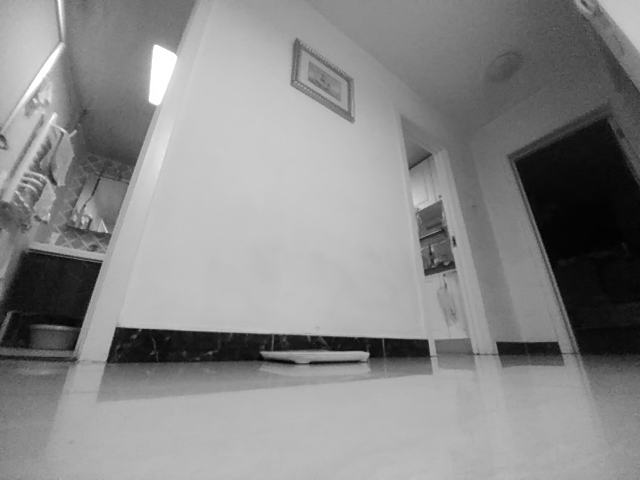scale: (260, 349, 369, 367)
